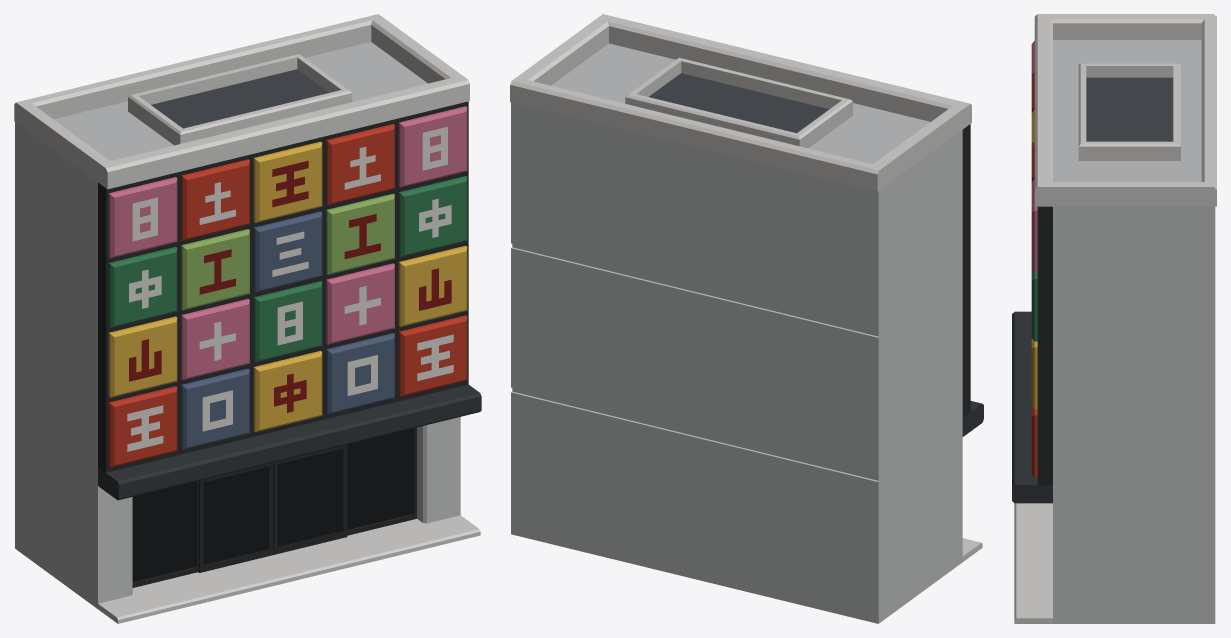
Rendered from amusement-parlour-7eb45f.glb.
3 renders of one model, left to right at view 1: azimuth 30°, elevation 25°; view 2: azimuth 150°, elevation 25°; view 3: azimuth 270°, elevation 25°, orthographic. The views are drawn at different scales.
Visible parts, largest first — view 1: parlour-shell, door-l-leaf, door-r-leaf; view 2: parlour-shell; view 3: parlour-shell.
Part boxes in pixels (x1,y1,x2,y2): parlour-shell: (14, 14, 481, 623); door-l-leaf: (198, 462, 272, 572); door-r-leaf: (273, 444, 347, 554); parlour-shell: (510, 14, 983, 623); parlour-shell: (1012, 14, 1216, 623).
Bounding box in the file's own units: 8 × 9.42 × 4.
